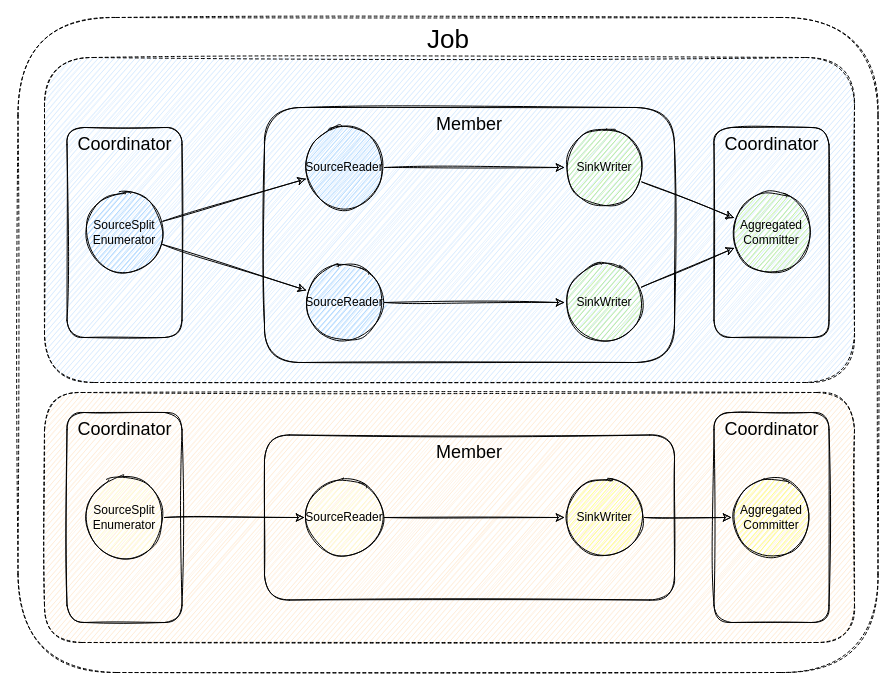
The diagram is 895 pixels wide and 690 high, and some of its shapes have lost their labels. Each missing label, with the box of its shape:
pipeline #1: (44, 56, 854, 382)
pipeline #2: (44, 392, 854, 642)
